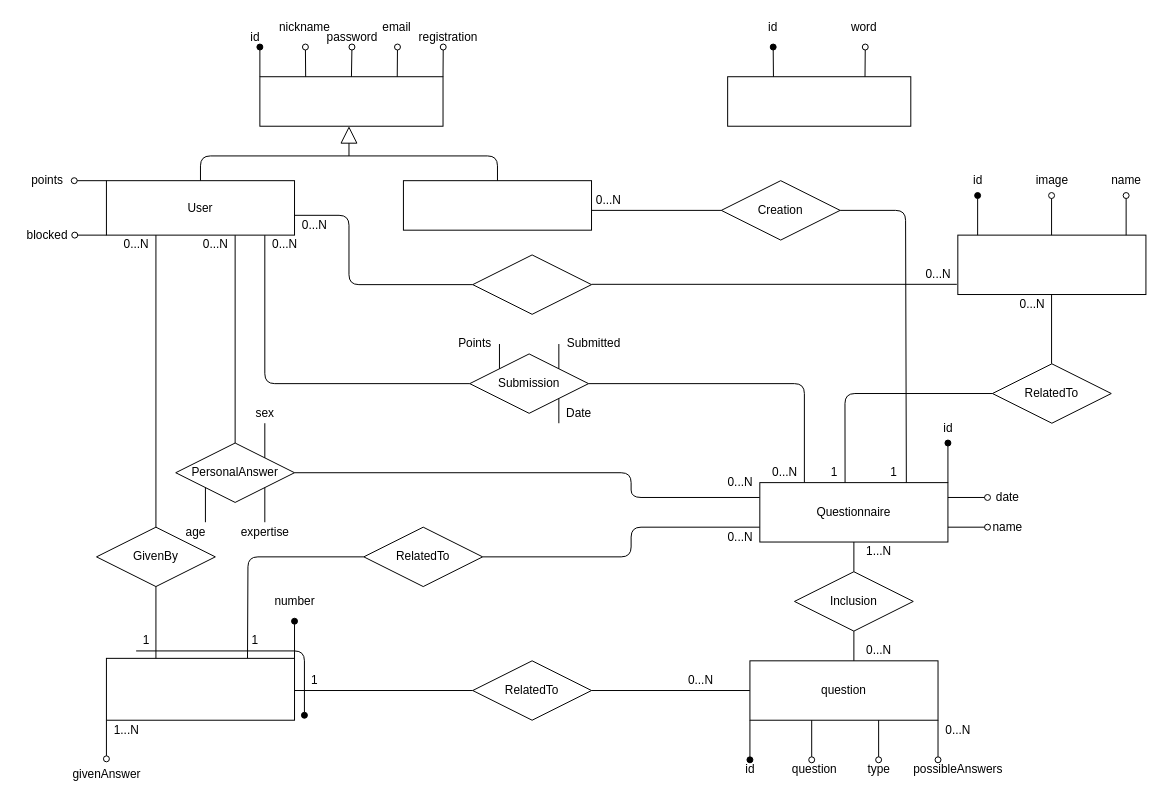
This 1167x801 diagram has some shape labels left out. The centre of each missing label's shape, as x and y in pixels:
"Administrator" belongs at [497,205].
"OffensiveWord" belongs at [819,101].
"Person" belongs at [351,101].
"Product" belongs at [1051,264].
"ProductAnswer" belongs at [200,688].
"Review" belongs at [532,284].
